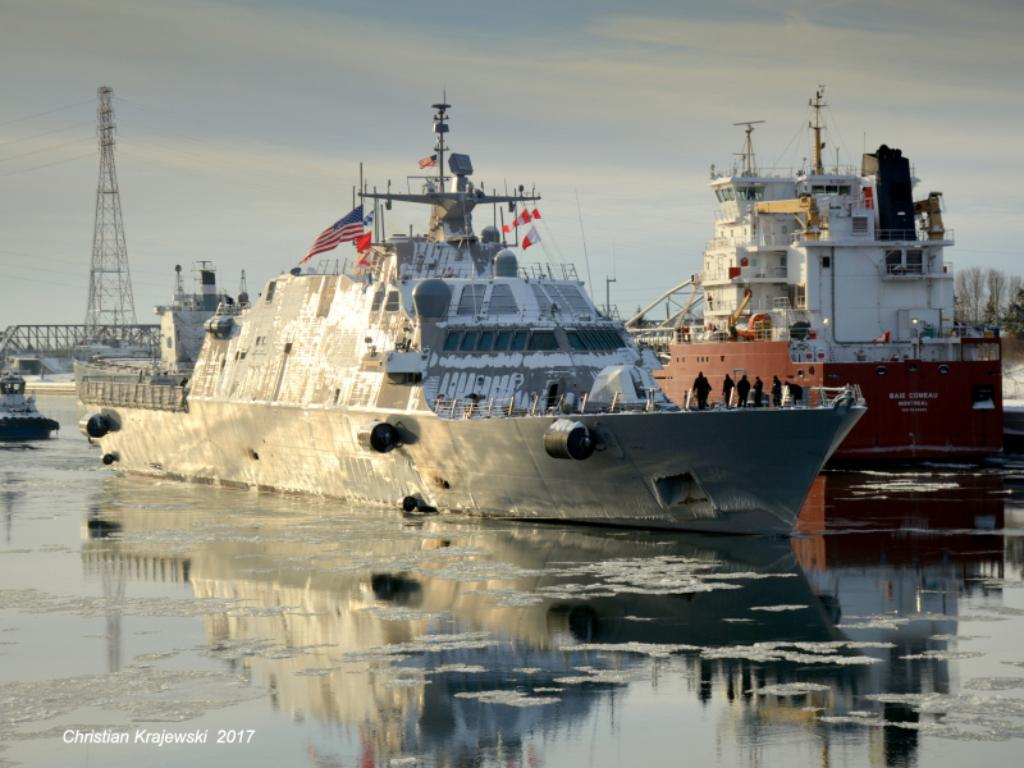Warship: (79, 97, 867, 535)
